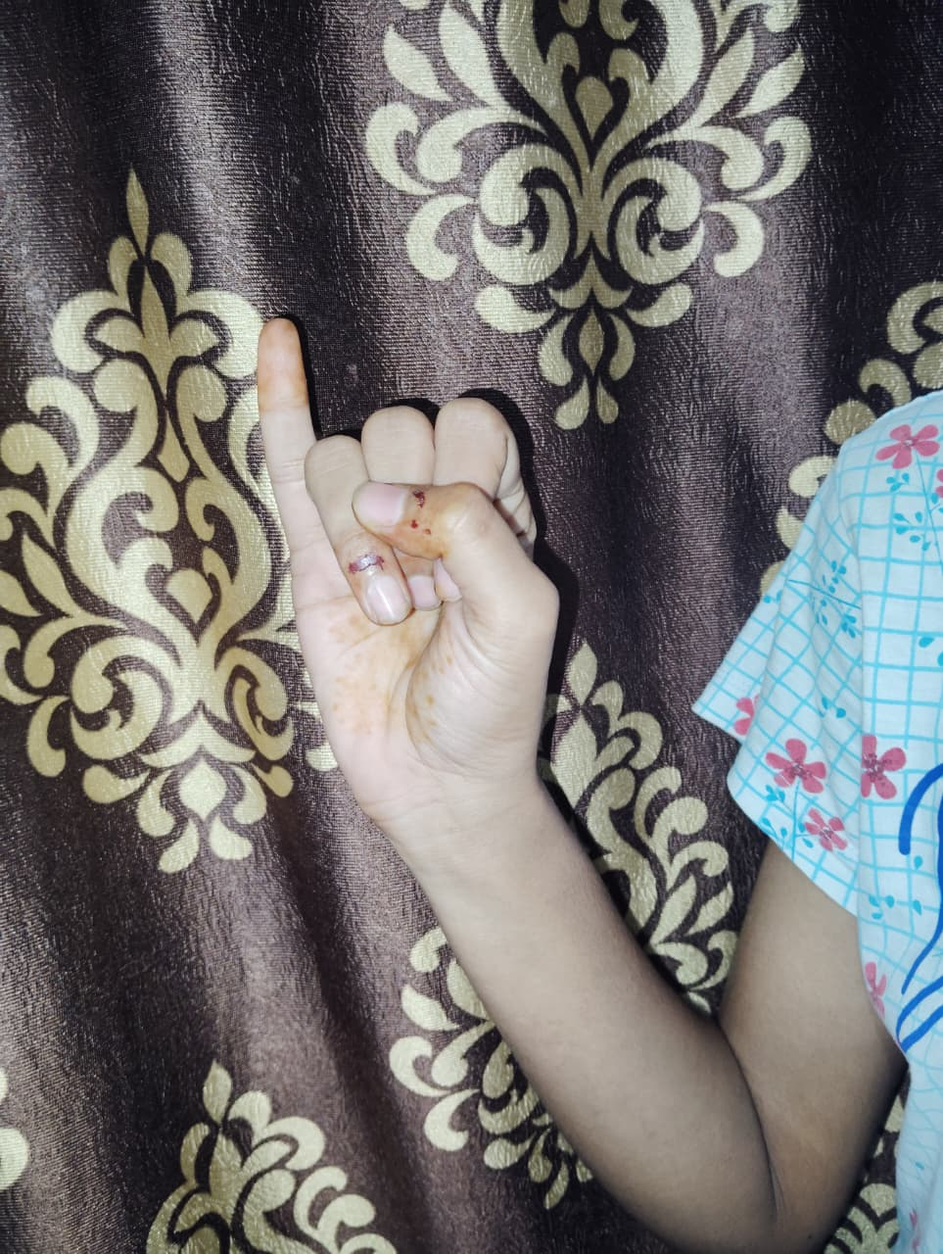I: (257, 316, 560, 787)
